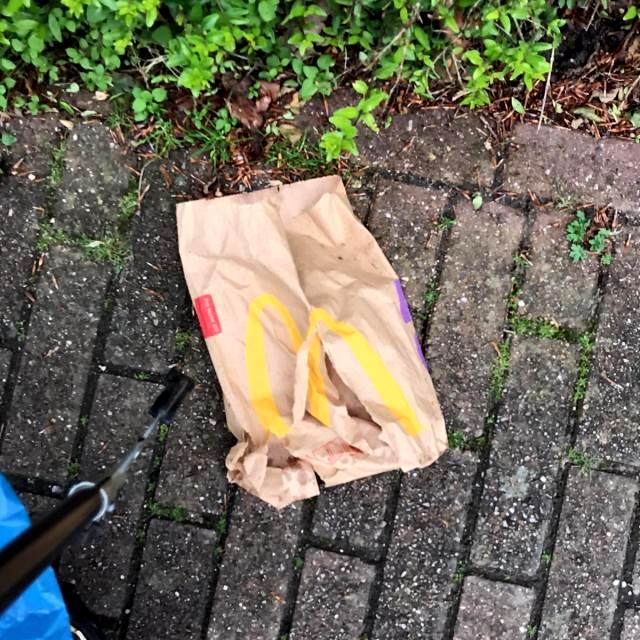Paper: (172, 171, 452, 513)
